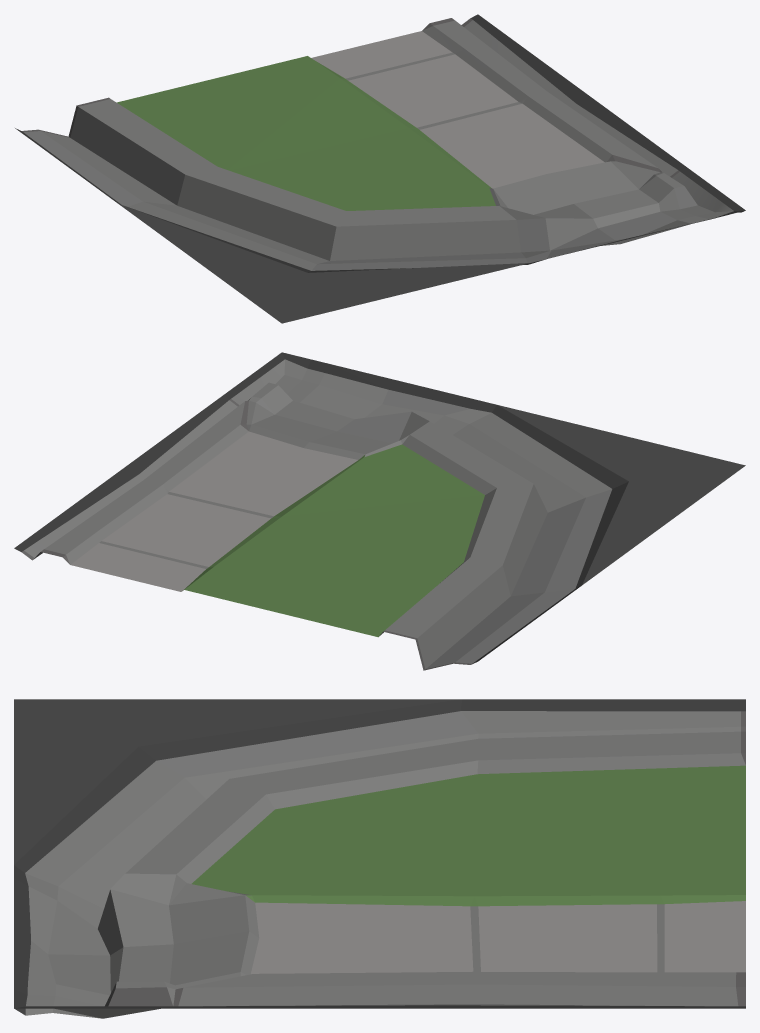
Rendered from SM_Env_Sidewalk_Corner_05.fbx.
The picture shows the model from 3 angles, top to bottom: view 1: azimuth 30°, elevation 25°; view 2: azimuth 150°, elevation 25°; view 3: azimuth 270°, elevation 25°; orthographic projection. The views are drawn at different scales.
Visible parts, largest first — view 1: SM_Env_Sidewalk_Corner_05; view 2: SM_Env_Sidewalk_Corner_05; view 3: SM_Env_Sidewalk_Corner_05.
Boxes of the visible parts, left/top/right/bottom form: SM_Env_Sidewalk_Corner_05: left=15, top=14, right=745, bottom=323; SM_Env_Sidewalk_Corner_05: left=14, top=352, right=745, bottom=670; SM_Env_Sidewalk_Corner_05: left=14, top=699, right=745, bottom=1018.
Bounding box in the file's own units: 500 × 30 × 500.
